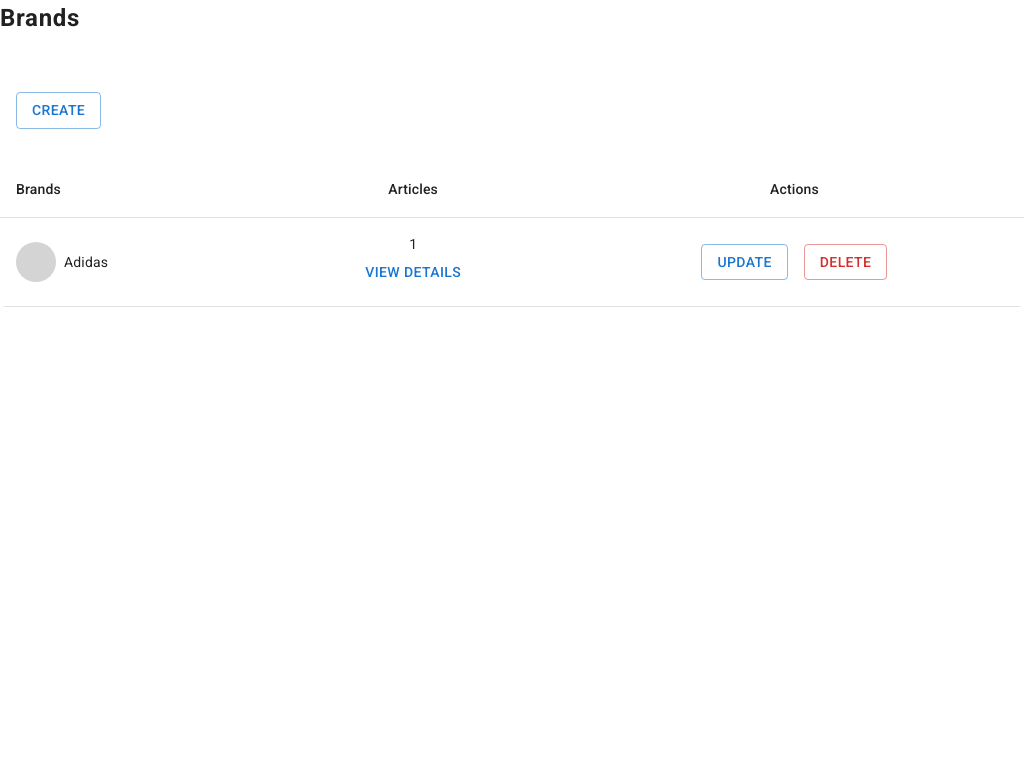
Test: Brands component › Brands button click › Prompt brand update
The width and height of the screenshot is (1024, 768).
Click the button "Update": click(745, 262) [702,244,788,280]
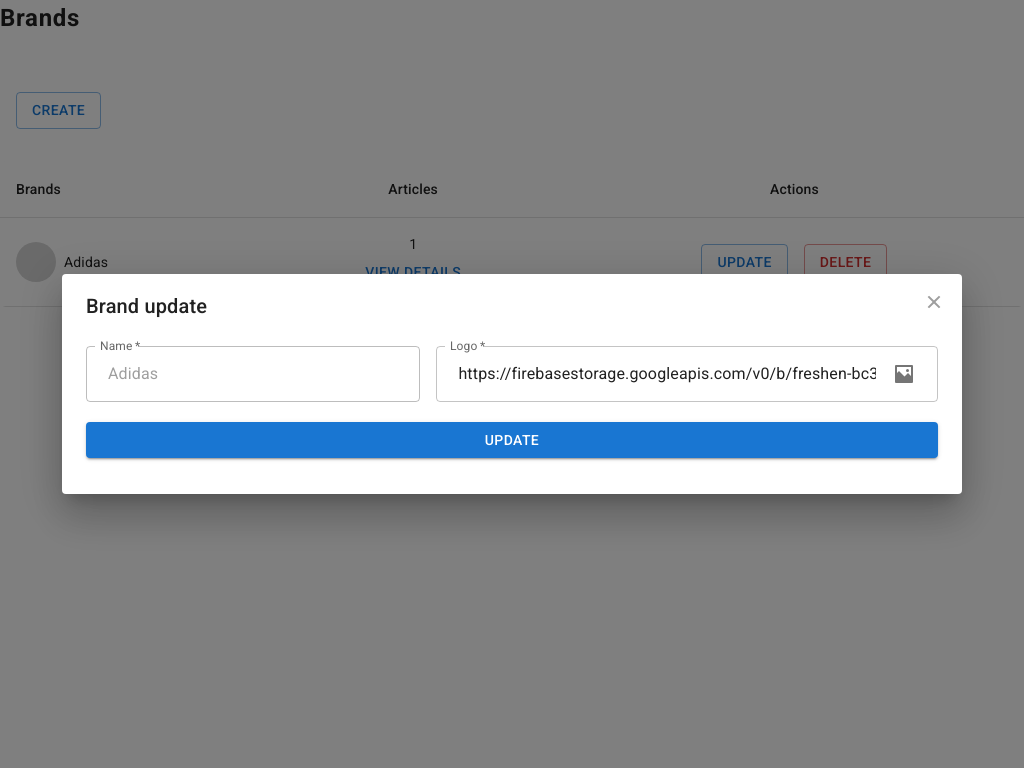
Expected: the field labelled "Name *" holds "Adidas", [108,346,398,402]
Expected: the field labelled "Logo *" holds "https://firebasestorage.googleapis.com/v0/b/freshen-bc365.appspot.com/o/users%2F645134905eec8a5e57bbb93f%2Fprofile_picture.png?alt=media&token=cc2a0f45-7a1e-41c", [458,346,876,402]
